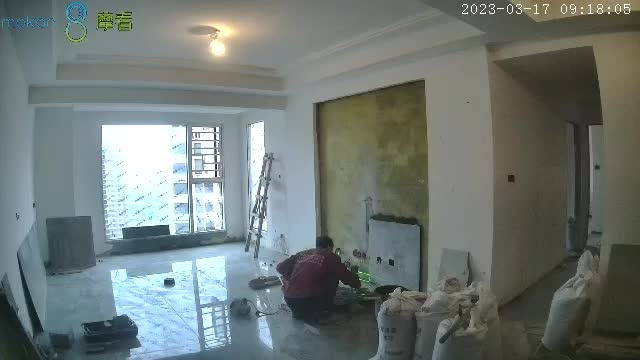people: (275, 233, 362, 320)
window: (101, 124, 224, 240)
